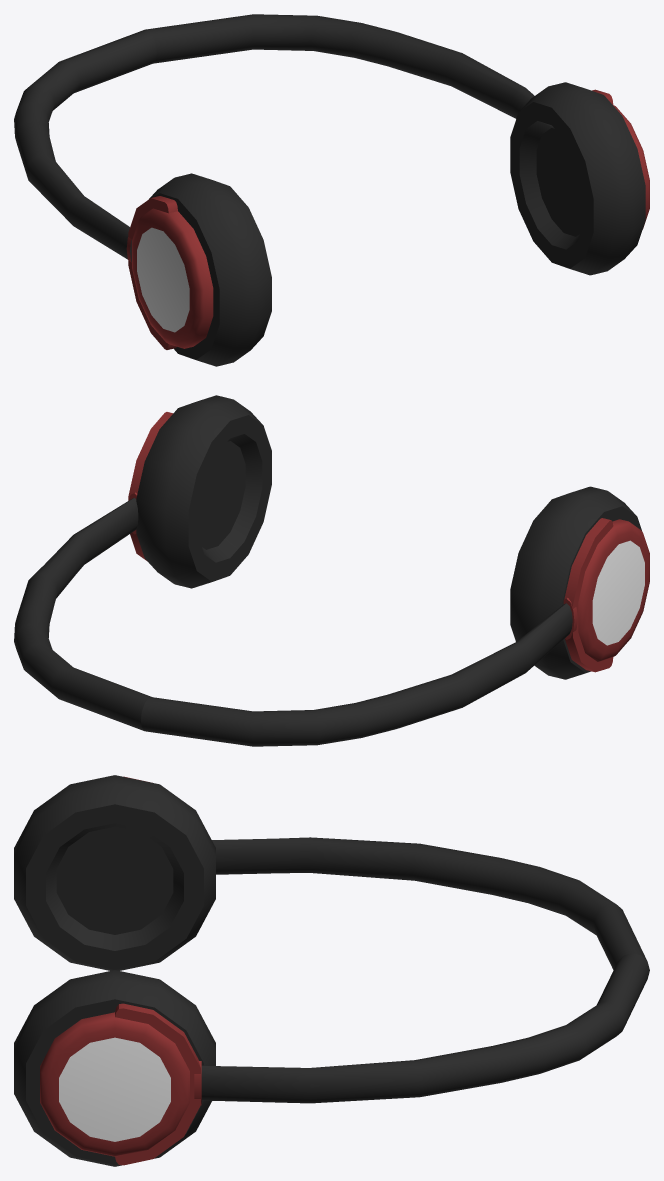
Rendered from Head Phone_1C.fbx.
The picture shows the model from 3 angles, top to bottom: view 1: azimuth 30°, elevation 25°; view 2: azimuth 150°, elevation 25°; view 3: azimuth 270°, elevation 25°; orthographic projection. The views are drawn at different scales.
Visible parts, largest first — view 1: Head Phone_1C; view 2: Head Phone_1C; view 3: Head Phone_1C.
Part boxes in pixels (x1,y1,x2,y2): Head Phone_1C: (14, 14, 649, 366); Head Phone_1C: (14, 395, 649, 746); Head Phone_1C: (14, 775, 649, 1166).
Size of the model in its own units: 0.1887 by 0.0685 by 0.2101.
